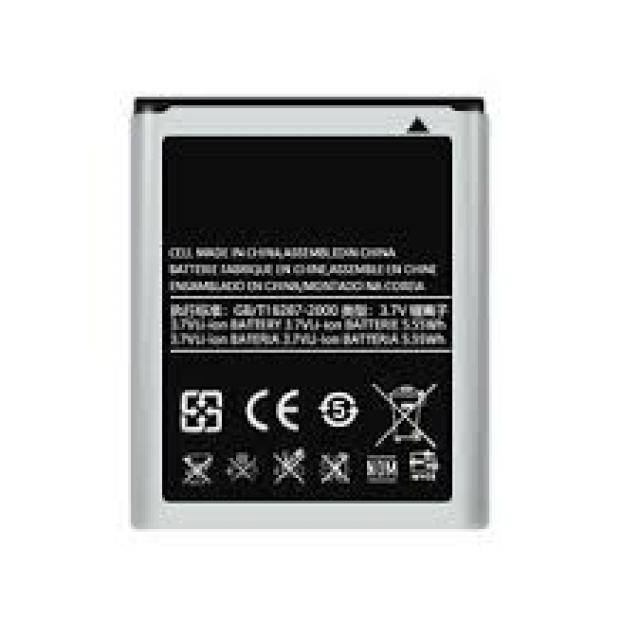non-organic waste: (124, 92, 493, 534)
